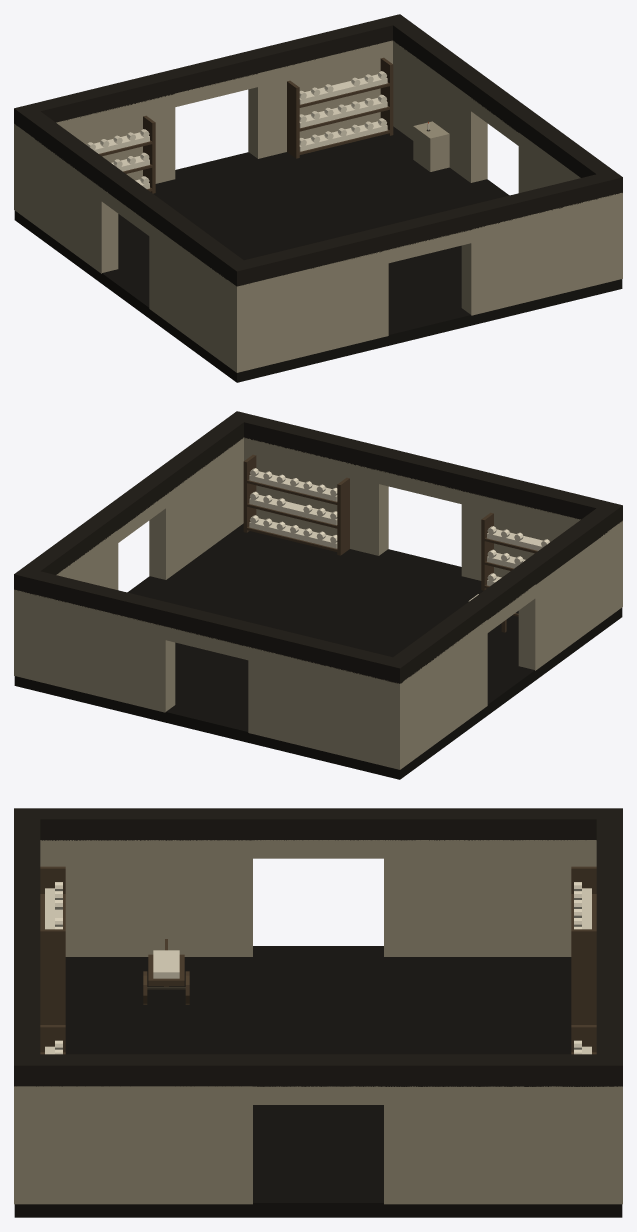
The model's file is LateCharnelHouse.fbx.
3 views of the same model, one above another, from view 1: azimuth 30°, elevation 25°; view 2: azimuth 150°, elevation 25°; view 3: azimuth 270°, elevation 25° (orthographic). The views are drawn at different scales.
Parts seen in each view (by area): view 1: LateCharnelHouse; view 2: LateCharnelHouse; view 3: LateCharnelHouse.
Part boxes in pixels (x1,y1,x2,y2): LateCharnelHouse: (14,14,622,382); LateCharnelHouse: (14,411,622,779); LateCharnelHouse: (14,808,622,1217).
Bounding box in the file's own units: 1202 × 332 × 1202.
7 materials, 7 textured.
